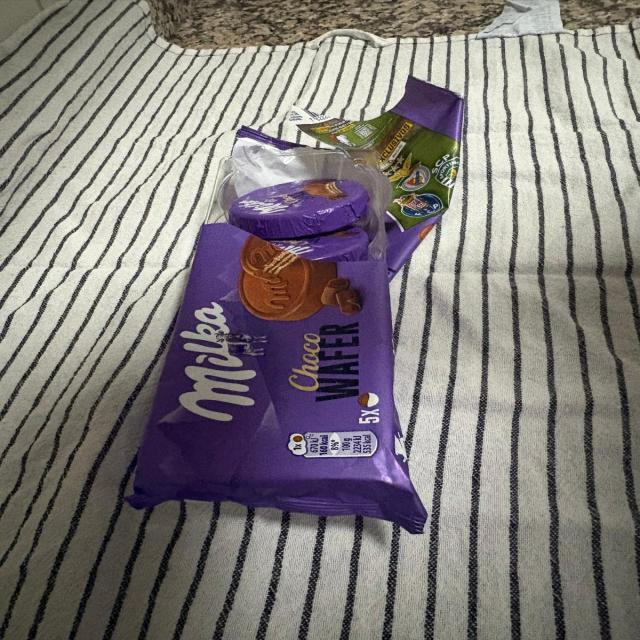damaged_package: (121, 75, 468, 536)
